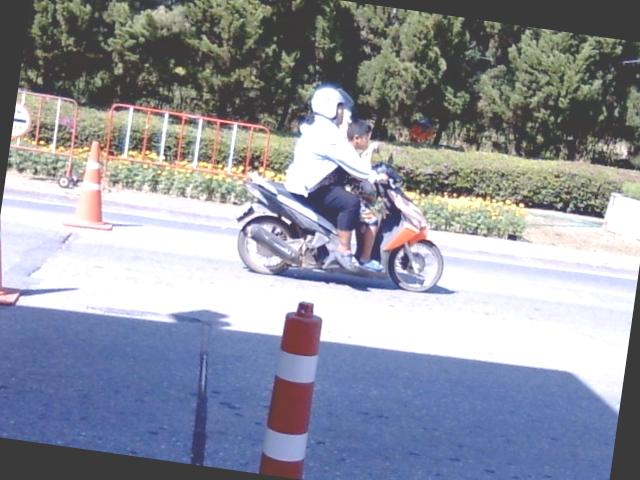helmet: (311, 84, 352, 118)
motor: (236, 155, 443, 292)
no-helmet: (346, 119, 371, 150)
person: (286, 86, 385, 269), (359, 192, 382, 271), (346, 119, 379, 162)
